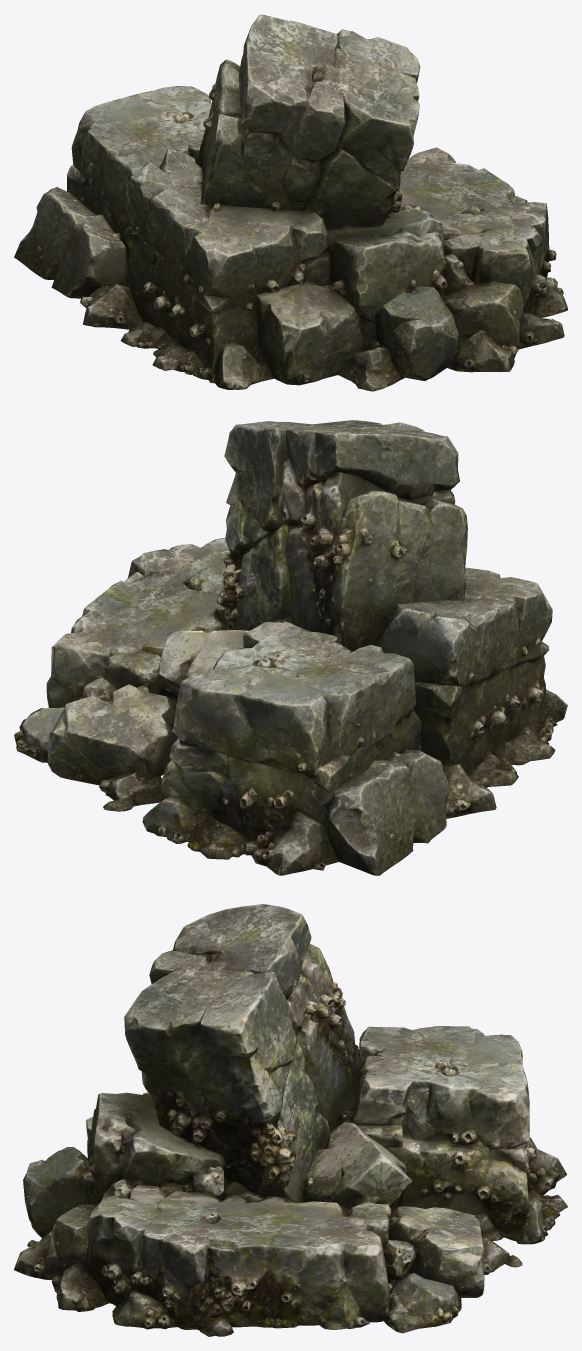
Rendered from T23_rubble_lo.glb.
3 views of the same model, one above another, from view 1: azimuth 30°, elevation 25°; view 2: azimuth 150°, elevation 25°; view 3: azimuth 270°, elevation 25° (orthographic). The views are drawn at different scales.
Visible parts, largest first — view 1: tripo_node_cd8743b5-a3bf-4058-880a-04174f408488; view 2: tripo_node_cd8743b5-a3bf-4058-880a-04174f408488; view 3: tripo_node_cd8743b5-a3bf-4058-880a-04174f408488.
Boxes of the visible parts, left/top/right/bottom form: tripo_node_cd8743b5-a3bf-4058-880a-04174f408488: left=14, top=14, right=567, bottom=391; tripo_node_cd8743b5-a3bf-4058-880a-04174f408488: left=14, top=420, right=567, bottom=875; tripo_node_cd8743b5-a3bf-4058-880a-04174f408488: left=14, top=904, right=567, bottom=1336.
Size of the model in its own units: 0.8622 by 0.5849 by 0.9792.
1 material, 1 textured.
